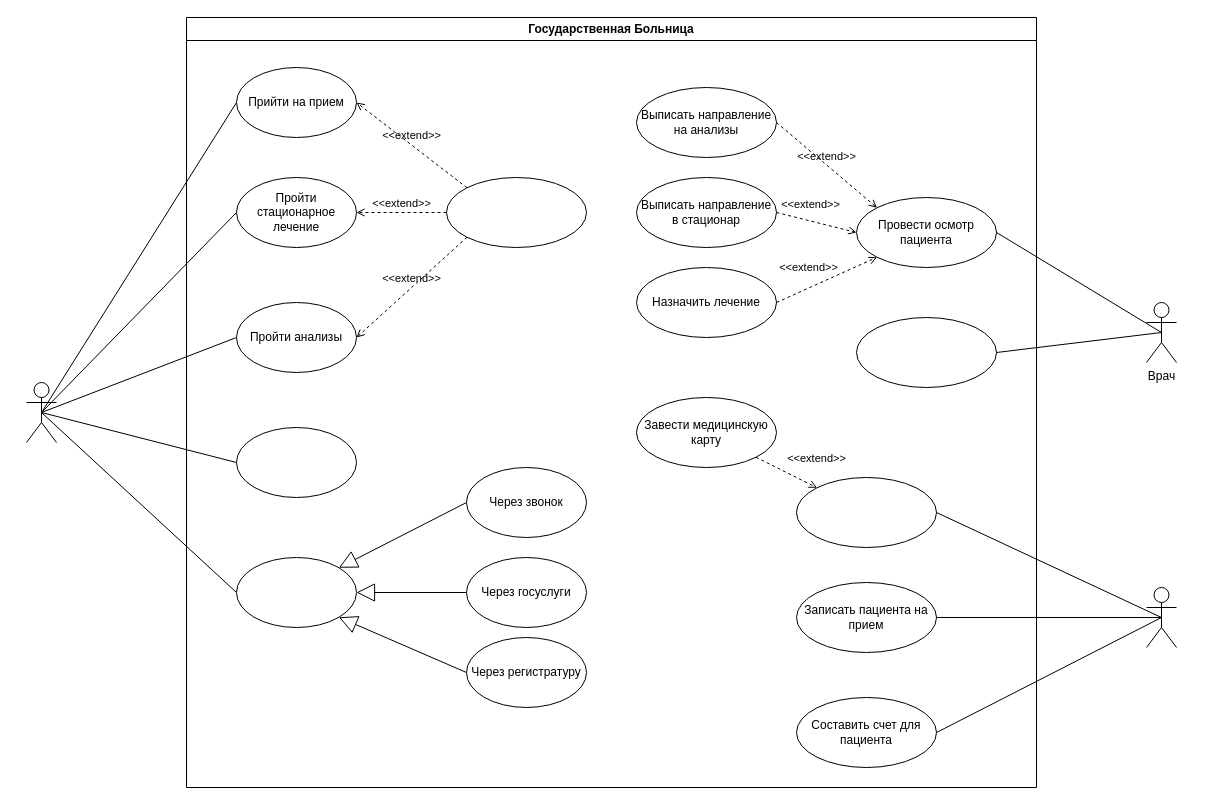
Some shapes in this 1209 by 805 pixel diagram are drawn without their labels. Here are the shapes that lost their labels. From the top down, the box of each, then its label:
(446, 176, 586, 248): Оплатить счет
(856, 316, 996, 388): Произвести лечение
(26, 382, 56, 442): Пациент
(236, 426, 356, 498): Получить медицинскую карту
(796, 476, 936, 548): Выдать медицинскую карту
(236, 556, 356, 628): Записаться на прием
(1146, 586, 1176, 648): Регстратор
